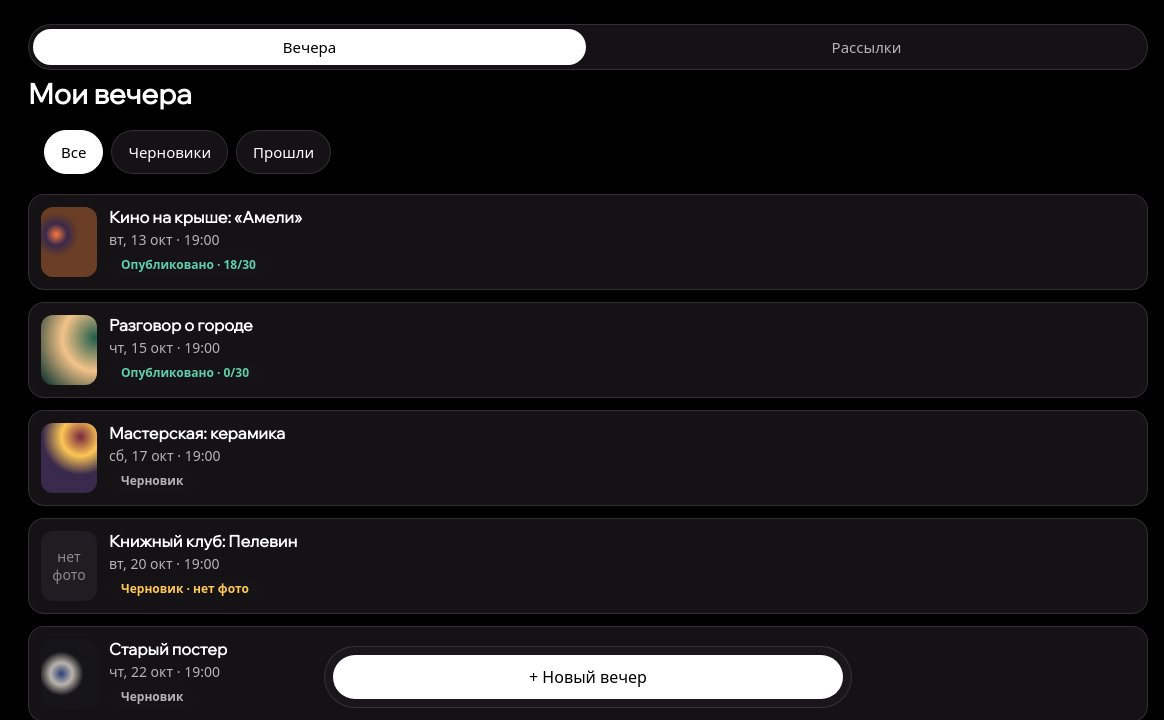
Test case: OwnerEvents › filters drafts and past evenings
Click the radio button labelled "Прошли".
click(284, 152)  # box [236,130,331,174]
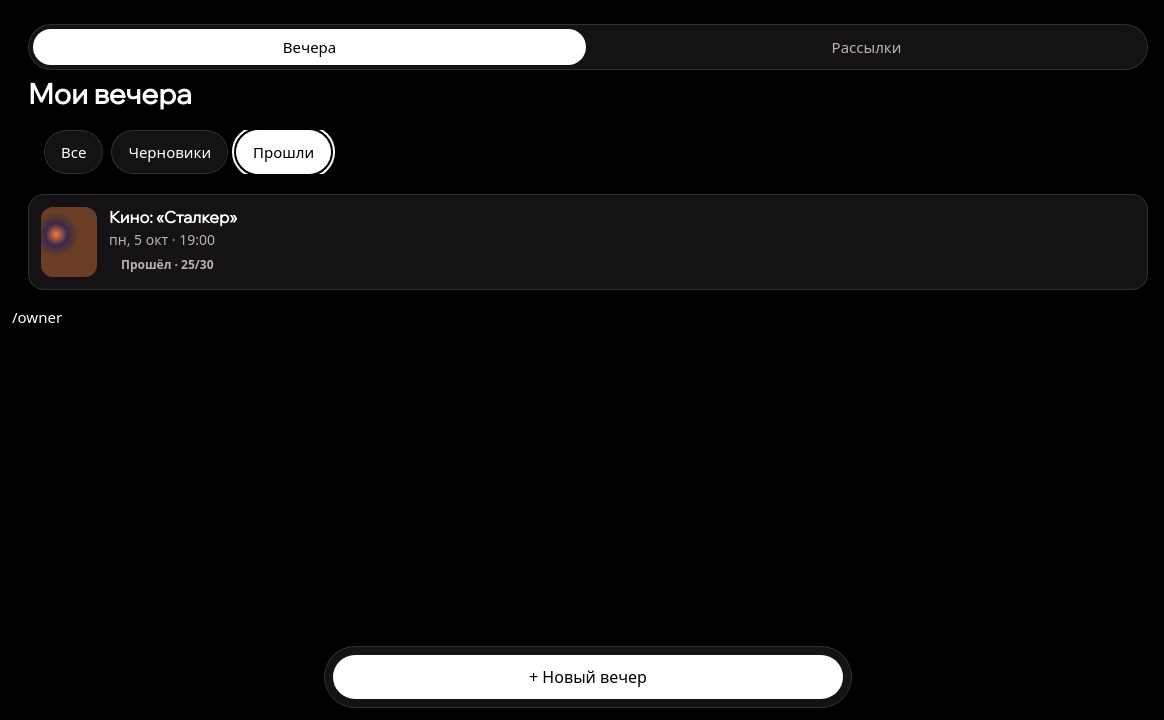
Expected: the element named "Фильтр вечеров" is shown, [44,130,331,174]
Expected: the text "Прошёл · 25/30" is shown, [109,253,226,277]
Expected: the link "Опубликовано · 18/30" is gone
